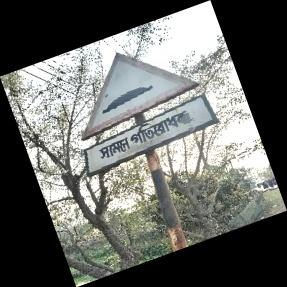Speed-breaker: (81, 51, 217, 171)
